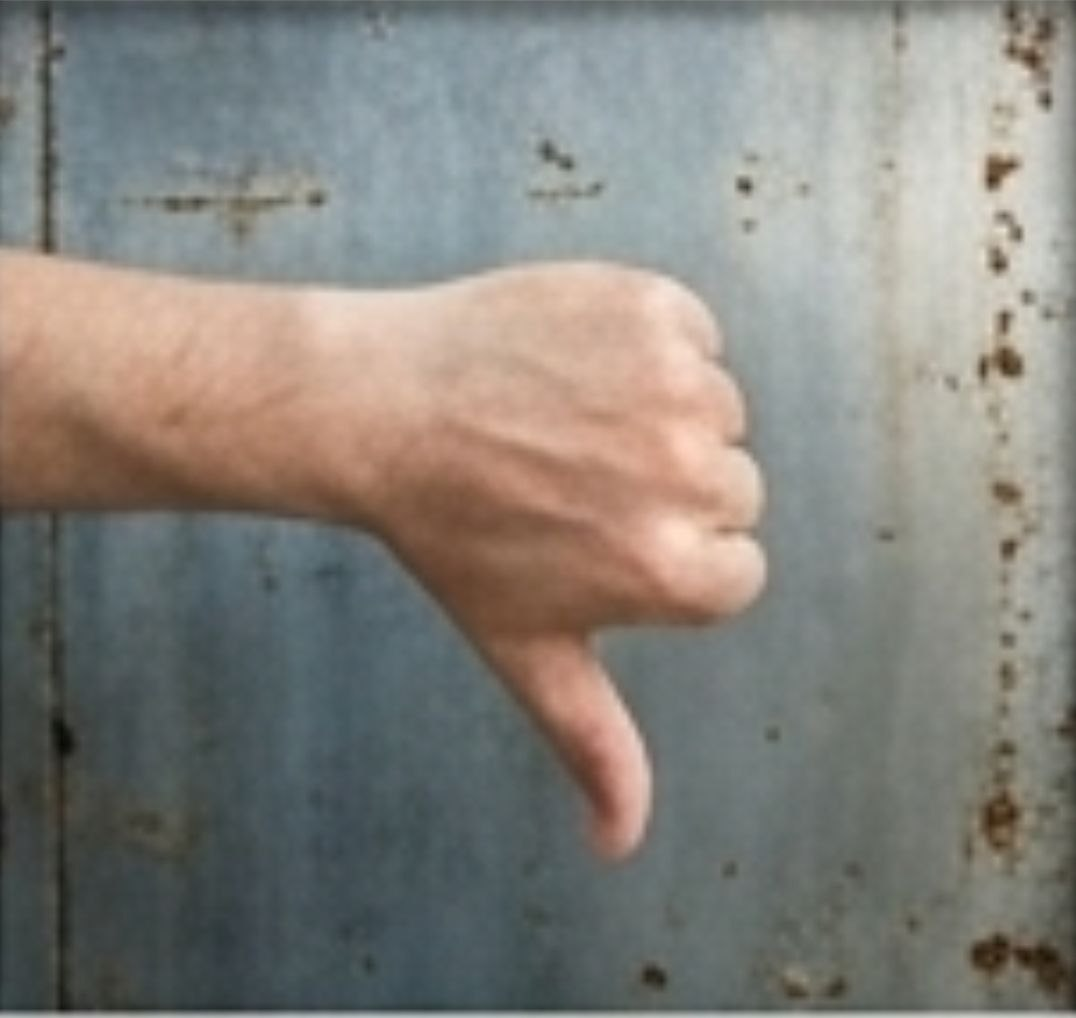Thumbs down: (338, 248, 792, 874)
